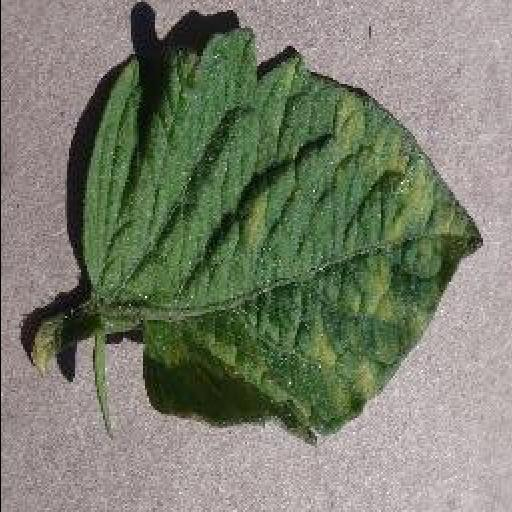disease_tomato: (80, 26, 482, 443)
